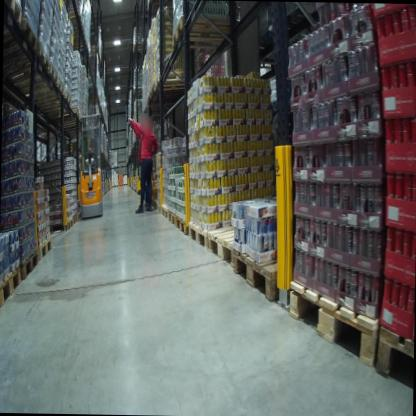pallet: (283, 269, 385, 377), (233, 240, 322, 301), (208, 212, 282, 276), (169, 10, 236, 55), (374, 320, 414, 387), (7, 64, 62, 103), (4, 13, 42, 60), (6, 46, 49, 84), (13, 80, 65, 110), (32, 88, 72, 123), (0, 261, 24, 311), (155, 69, 194, 92), (22, 242, 42, 285), (187, 218, 209, 257), (149, 80, 192, 98), (46, 106, 79, 129), (36, 233, 53, 267), (51, 217, 74, 237), (5, 0, 22, 25), (177, 213, 189, 238), (63, 12, 83, 26), (167, 207, 176, 234), (161, 199, 168, 224), (133, 41, 146, 54), (71, 210, 76, 227), (156, 202, 162, 211)
pallet_truck: (79, 110, 106, 221)
